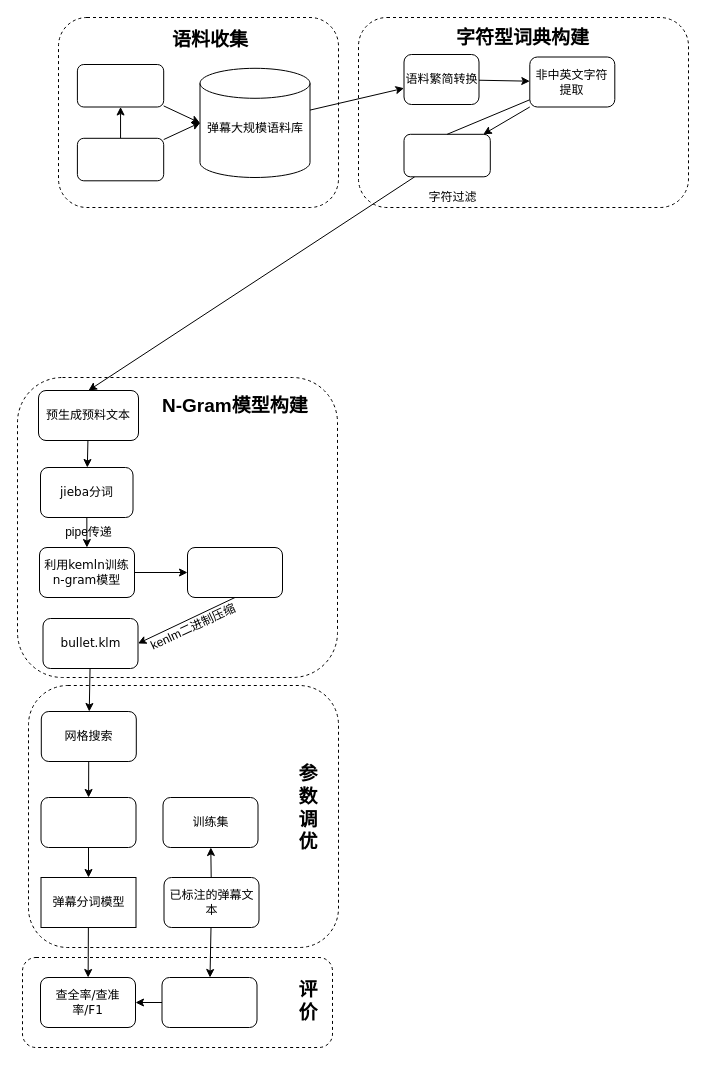
Some shapes in this 706 by 1065 pixel diagram are drawn without their labels. The shapes that lost their labels are listed below. From the top down, each one's box as (x1, y1, x2, y2) in pixels, then its label:
(76, 64, 164, 107): 弹幕收集
(76, 137, 164, 181): 弹幕视频收集
(403, 133, 490, 177): 构建字符词典
(186, 546, 282, 598): bullet.arpa
(40, 796, 136, 848): N-gram的最优转移概率
(161, 976, 257, 1028): 测试集
